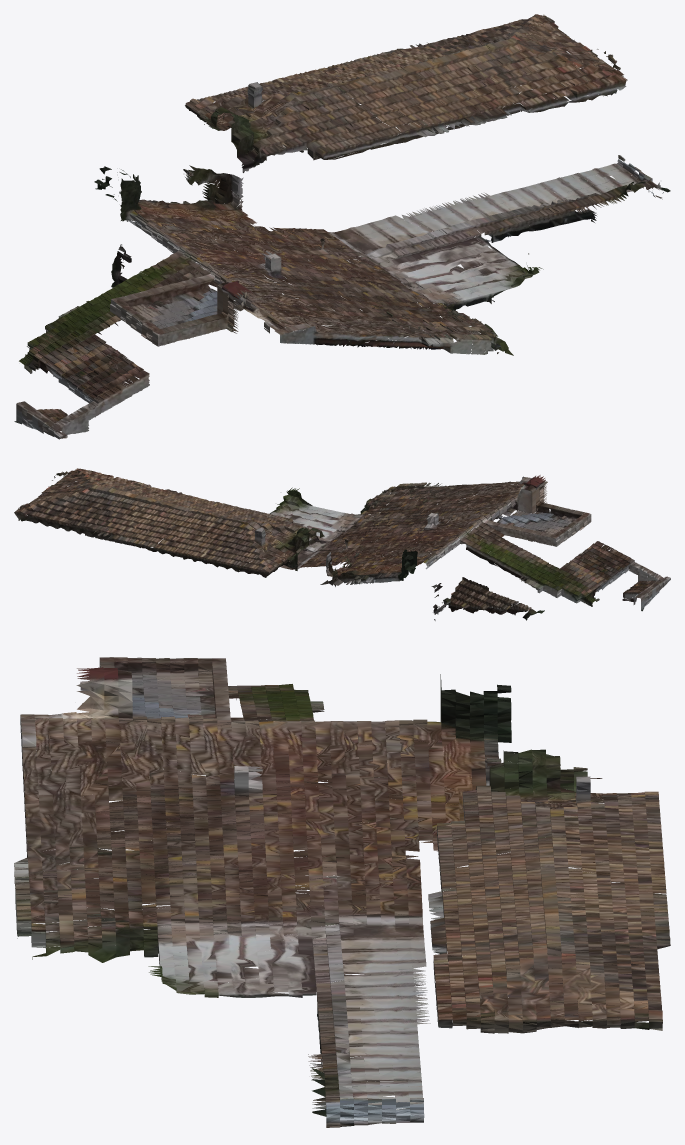
File: cubierta.glb
3 views of the same model, one above another, from view 1: azimuth 30°, elevation 25°; view 2: azimuth 150°, elevation 25°; view 3: azimuth 270°, elevation 25° (orthographic). The views are drawn at different scales.
Parts seen in each view (by area): view 1: cubierta_0, cubierta_2, cubierta_1; view 2: cubierta_0, cubierta_2, cubierta_1; view 3: cubierta_0, cubierta_1, cubierta_2.
Boxes of the visible parts, bbox=[...] form: cubierta_0: bbox=[14, 16, 670, 439]; cubierta_2: bbox=[19, 16, 635, 402]; cubierta_1: bbox=[49, 14, 649, 434]; cubierta_0: bbox=[19, 468, 670, 613]; cubierta_2: bbox=[19, 468, 638, 606]; cubierta_1: bbox=[14, 474, 666, 620]; cubierta_0: bbox=[15, 658, 670, 1127]; cubierta_1: bbox=[14, 668, 662, 1125]; cubierta_2: bbox=[14, 657, 666, 1108].
Size of the model in its own units: 38.4 by 6.84 by 23.48.
3 materials, 3 textured.
